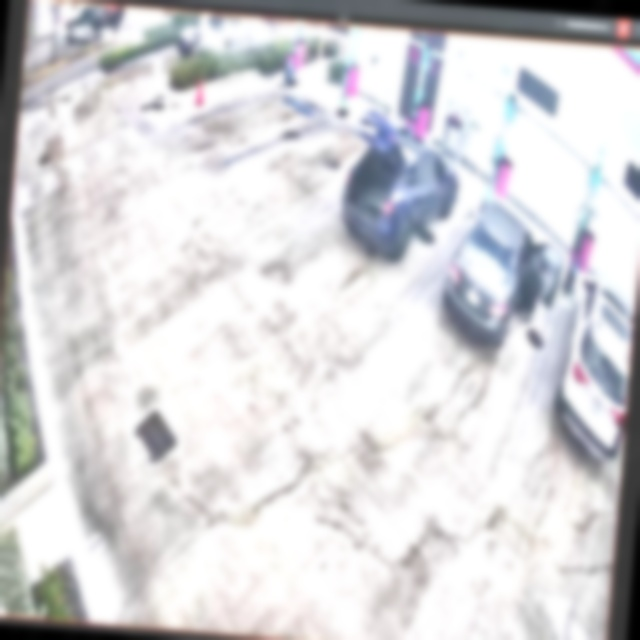Car: (441, 196, 567, 353), (337, 110, 465, 264)
